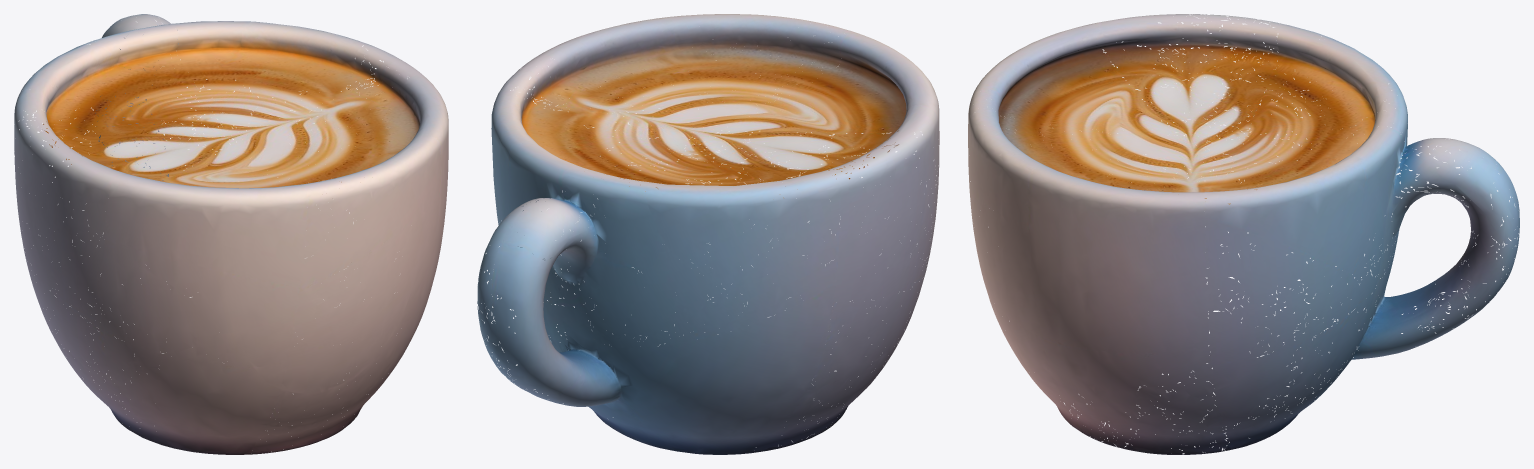
File: latte-art.glb
The picture shows the model from 3 angles, left to right: view 1: azimuth 30°, elevation 25°; view 2: azimuth 150°, elevation 25°; view 3: azimuth 270°, elevation 25°; orthographic projection. The views are drawn at different scales.
Parts seen in each view (by area): view 1: tripo_node_3cbd95ab-9bd8-4467-a6c1-a6cde505cbde_0; view 2: tripo_node_3cbd95ab-9bd8-4467-a6c1-a6cde505cbde_0; view 3: tripo_node_3cbd95ab-9bd8-4467-a6c1-a6cde505cbde_0.
Part boxes in pixels (x1=…): tripo_node_3cbd95ab-9bd8-4467-a6c1-a6cde505cbde_0: x1=14, y1=14, x2=448, y2=454; tripo_node_3cbd95ab-9bd8-4467-a6c1-a6cde505cbde_0: x1=477, y1=14, x2=939, y2=454; tripo_node_3cbd95ab-9bd8-4467-a6c1-a6cde505cbde_0: x1=968, y1=14, x2=1519, y2=454.
Size of the model in its own units: 0.7885 by 0.6031 by 0.9997.
Materials: 1 (1 with a texture image).
